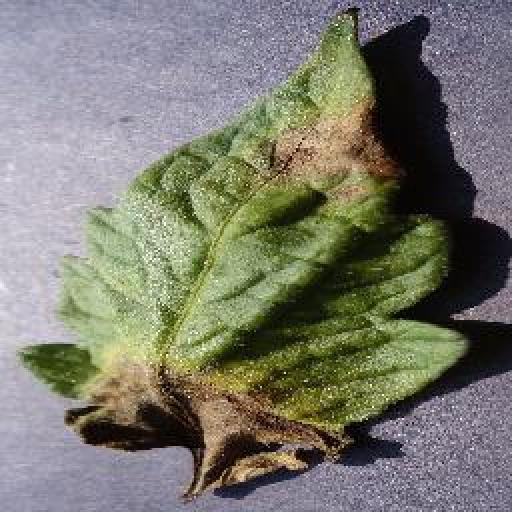disease_tomato: (12, 2, 471, 494)
